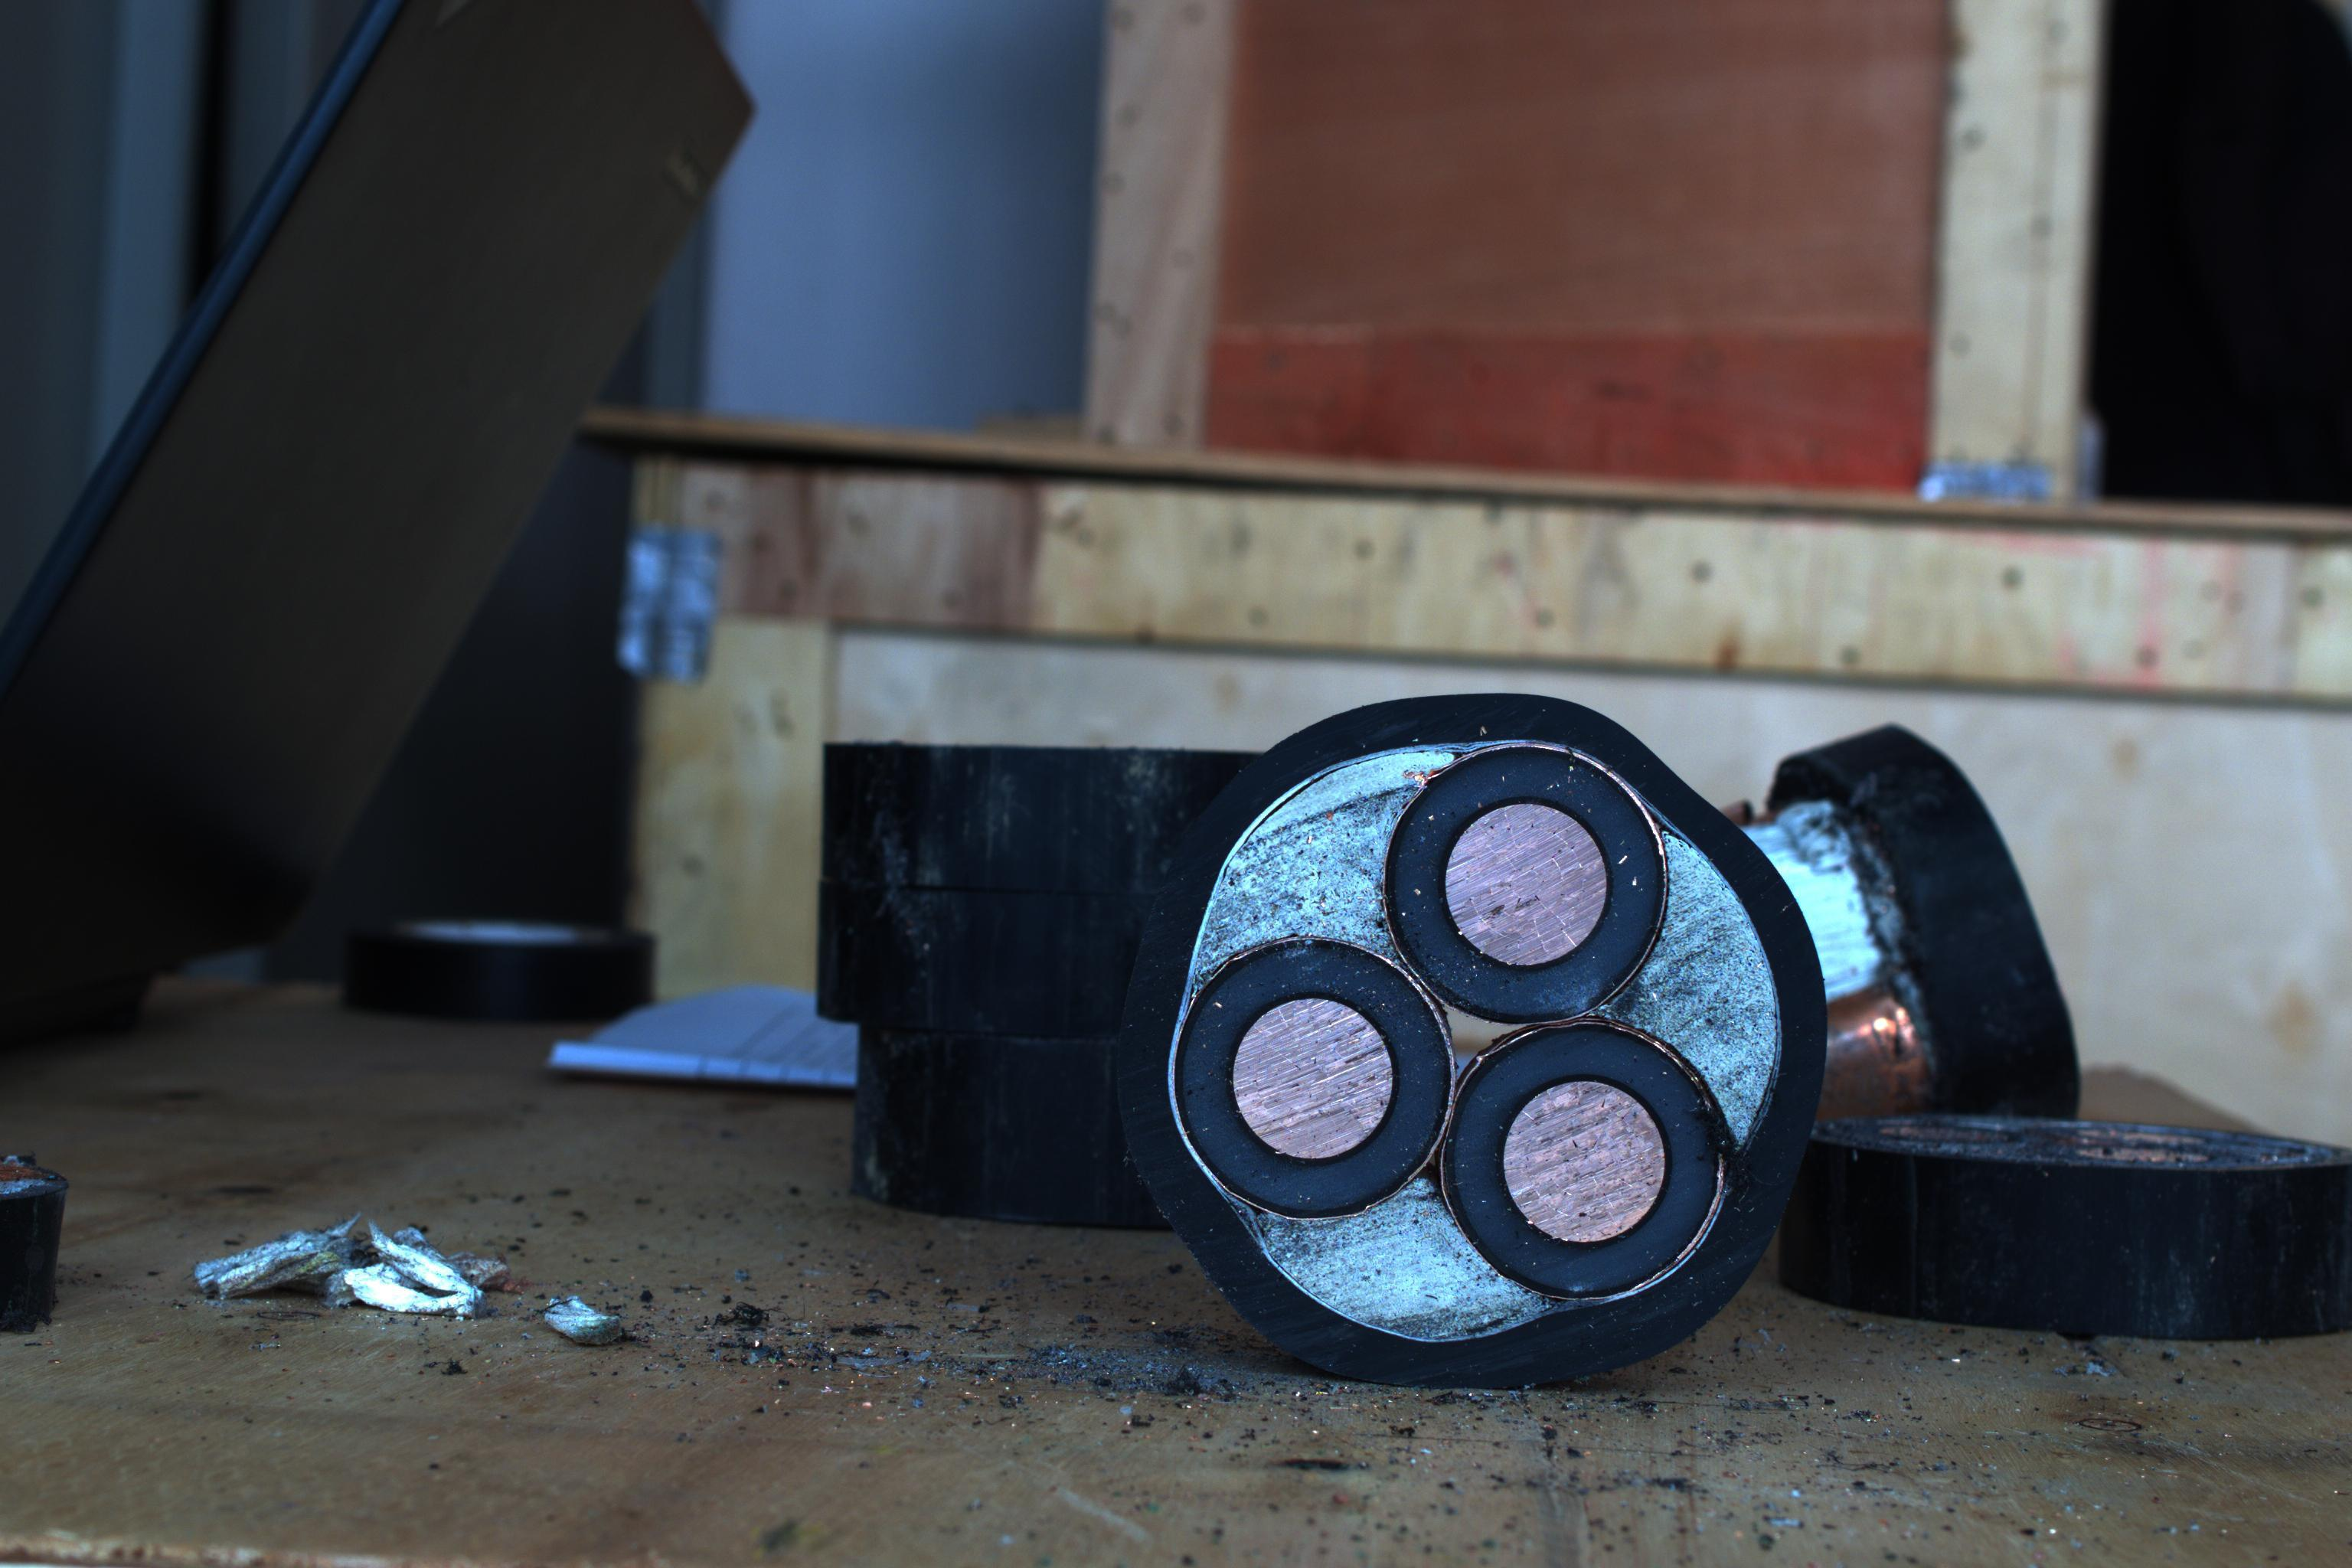ZA_YJV_8.7_10kV_3x240: (1123, 700, 1818, 1396)
